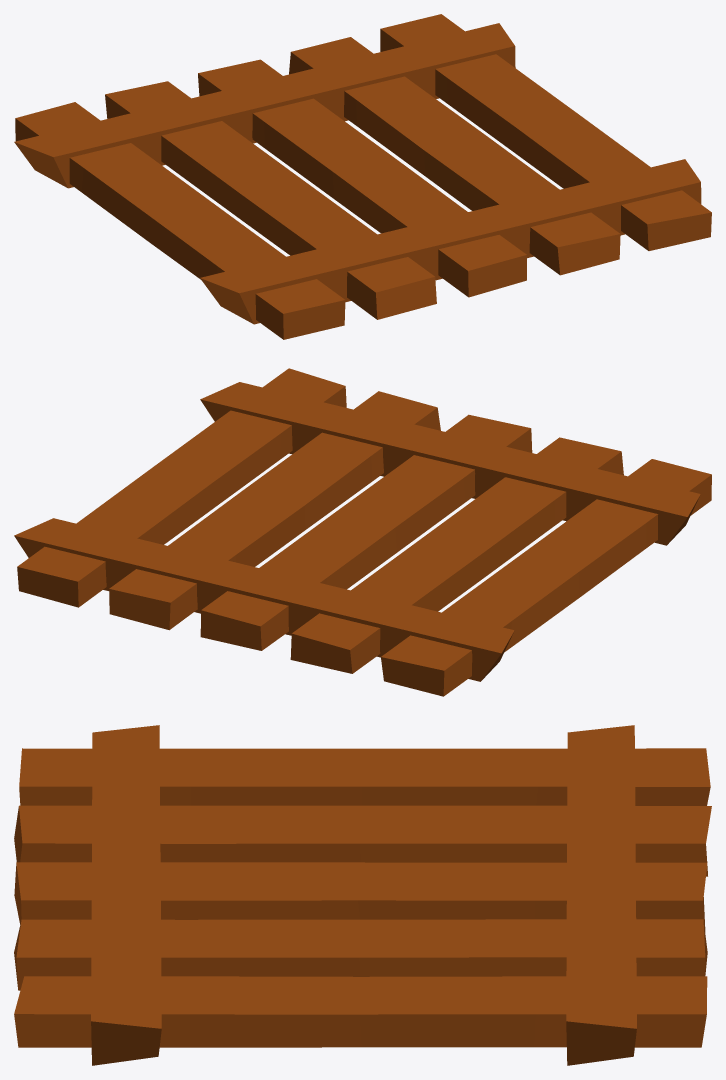
Rendered from bridge.glb.
The picture shows the model from 3 angles, top to bottom: view 1: azimuth 30°, elevation 25°; view 2: azimuth 150°, elevation 25°; view 3: azimuth 270°, elevation 25°; orthographic projection. The views are drawn at different scales.
Parts seen in each view (by area): view 1: flying_platform.001; view 2: flying_platform.001; view 3: flying_platform.001.
Boxes of the visible parts, box(x1,y1,x2,y2) form: flying_platform.001: box(14, 14, 711, 339); flying_platform.001: box(14, 368, 711, 696); flying_platform.001: box(14, 725, 711, 1065).
Size of the model in its own units: 1.96 by 0.1362 by 1.91.
